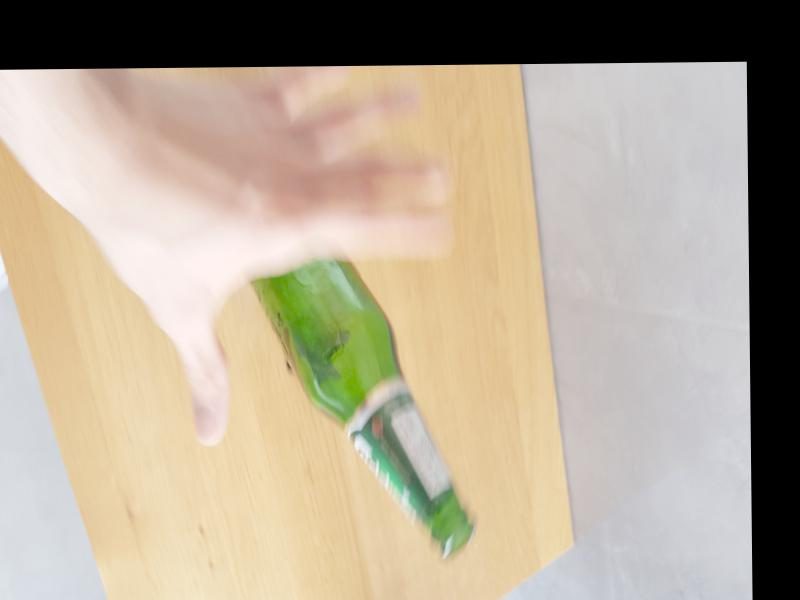Beer: (247, 257, 475, 562)
